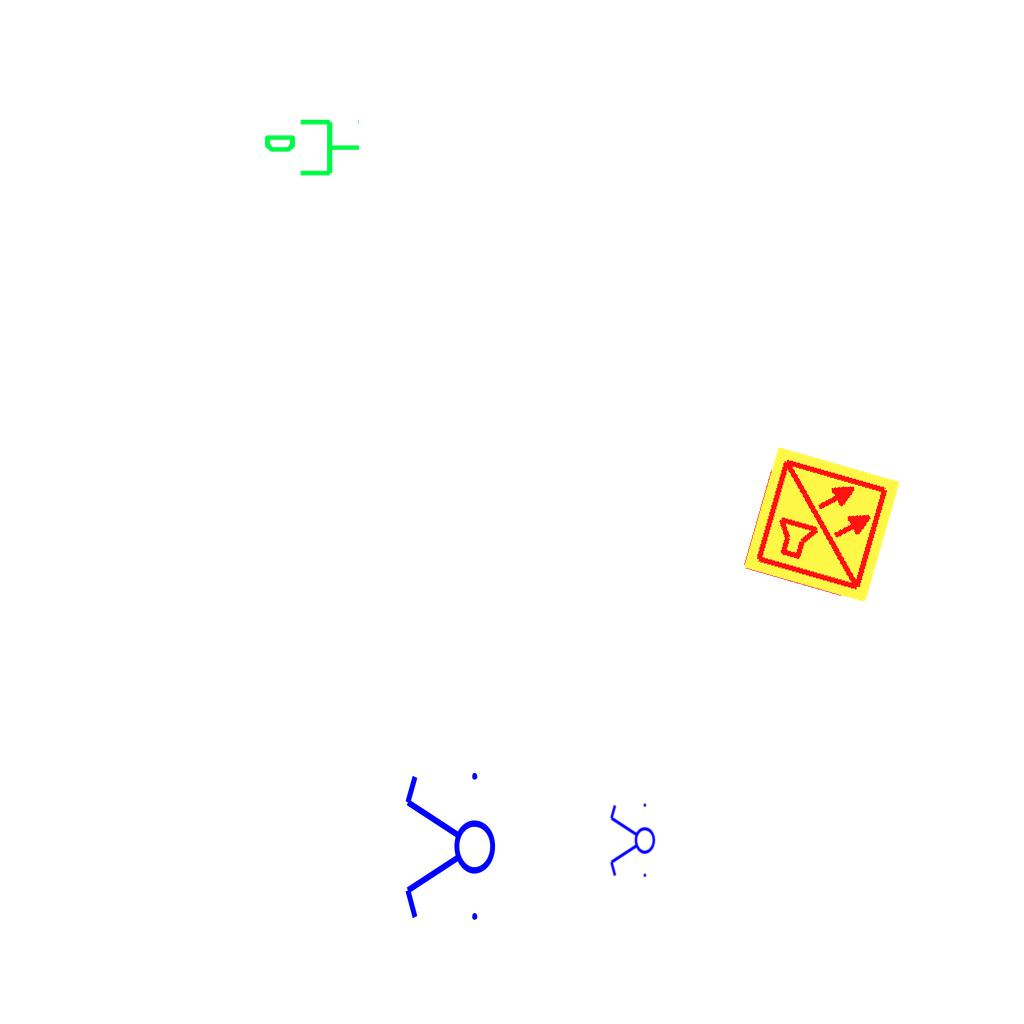Datenanschluss_einfach: (262, 115, 362, 184)
OKW_Multisensormelder_(Kombination_optischer_Rauch-Kahlenmonoxid_Waerme-Melder): (740, 443, 904, 607)
Serienschalter: (401, 764, 497, 932), (608, 799, 656, 883)
